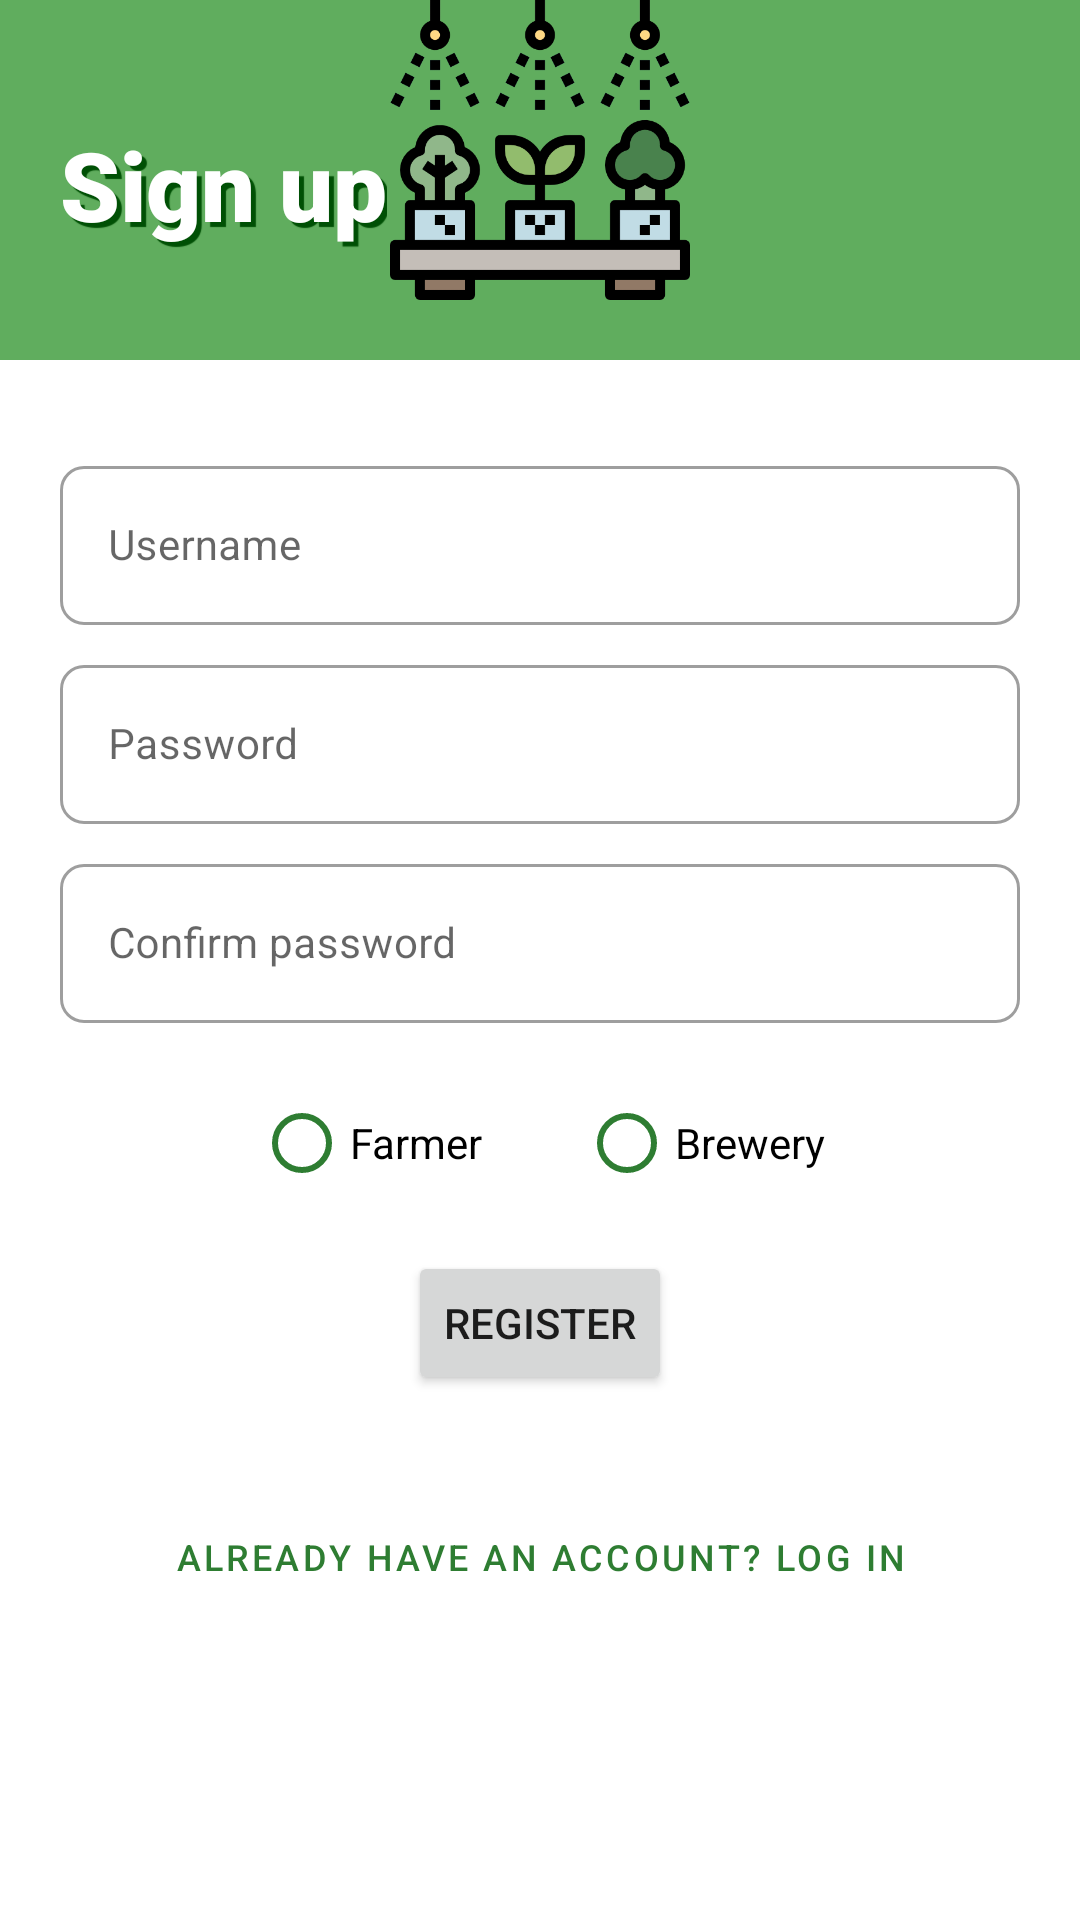

Screen size 1080 x 1920. Icon name, then its center in pixels as (x=x, y=y):
hydroponics: (x=540, y=150)
